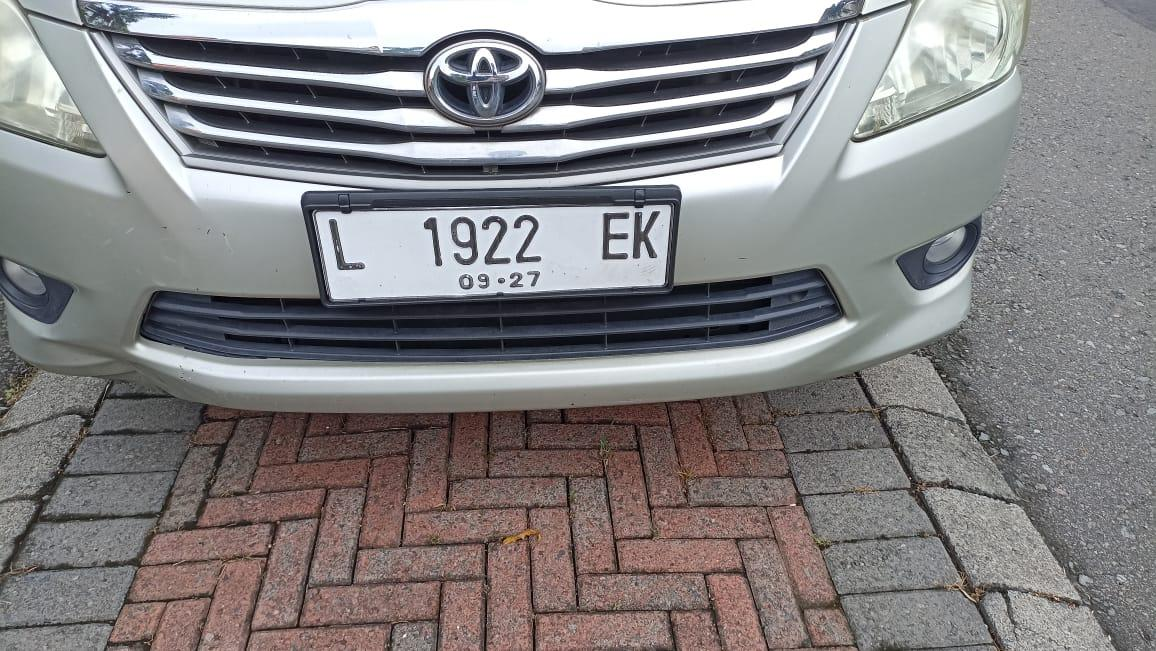plat: (303, 187, 680, 305)
